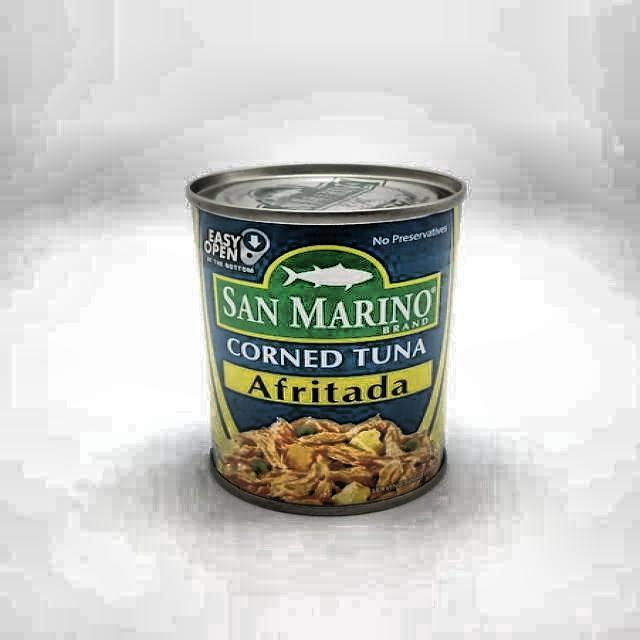metal: (186, 164, 466, 517)
